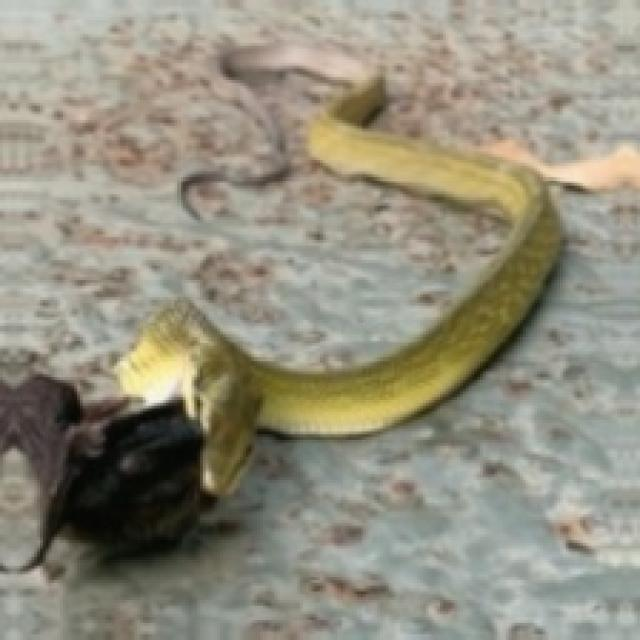red-tailed green ratsnake: (117, 74, 560, 494), (180, 44, 376, 219)
